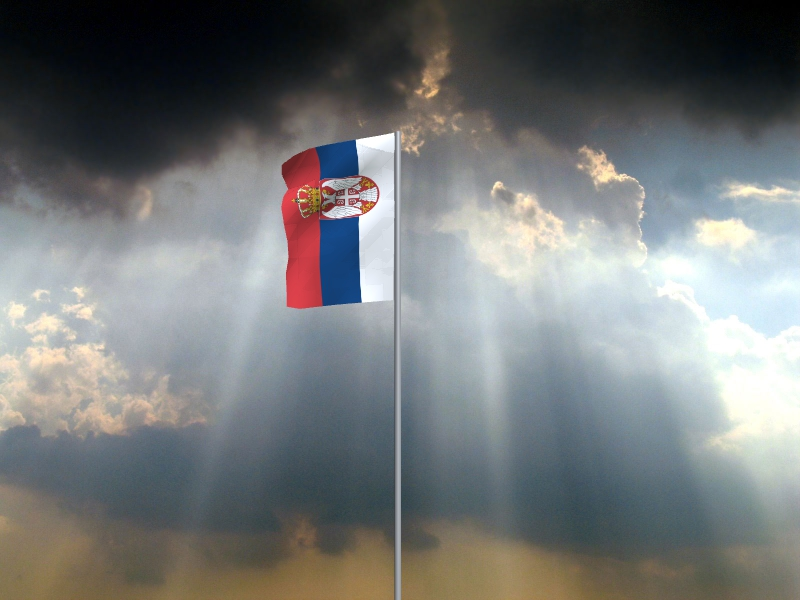rs: (281, 133, 395, 310)
